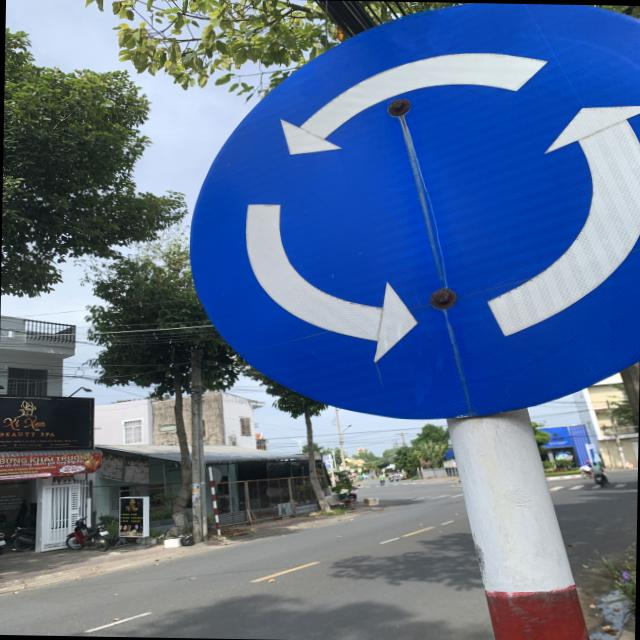Xe_Bus: (186, 0, 640, 419)
